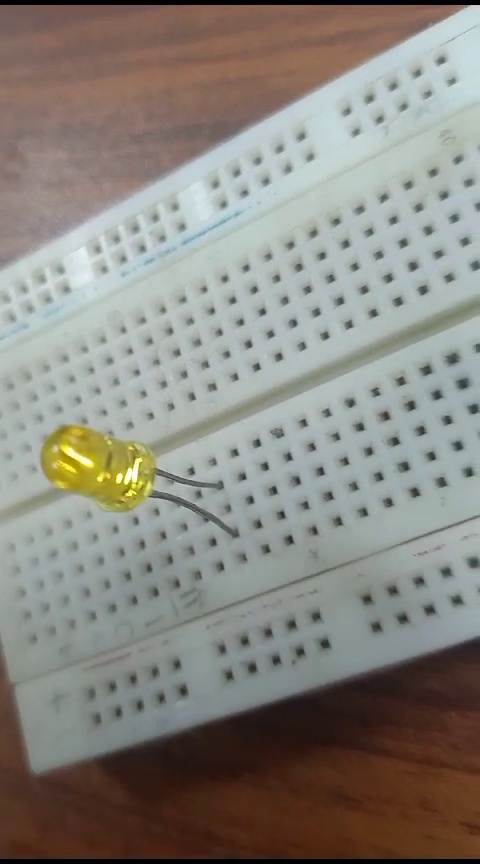LED: (26, 412, 242, 561)
